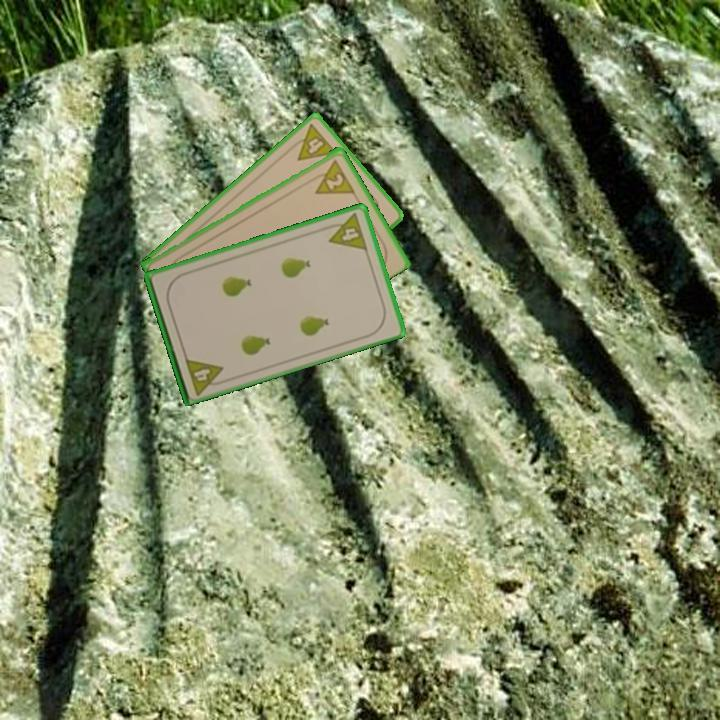2p: (306, 154, 357, 197)
4p: (285, 120, 340, 164), (321, 210, 370, 253), (181, 354, 229, 397)
